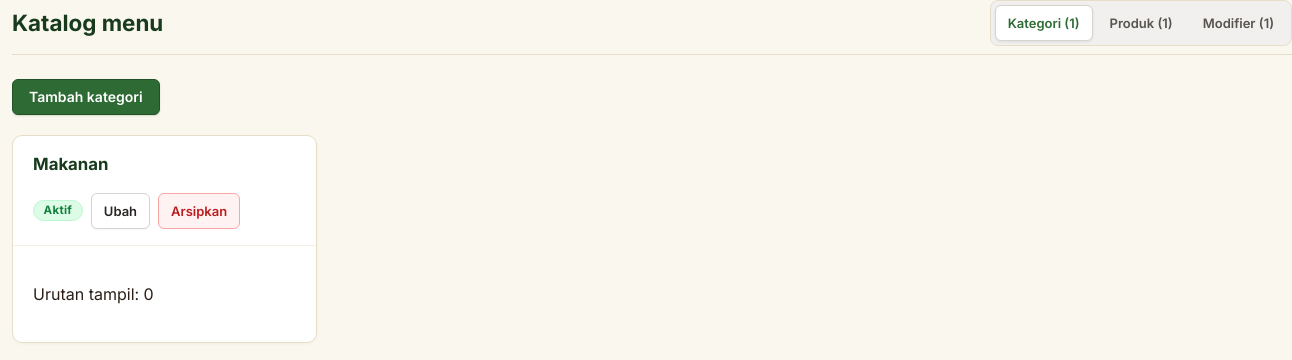
Test: CatalogPage › switches to the modifiers tab
The width and height of the screenshot is (1292, 360).
expect the heading "Makanan" is shown: met, box [33, 152, 108, 177]
Click the tab "Modifier (1)" at (1238, 23), box [1190, 5, 1287, 41]
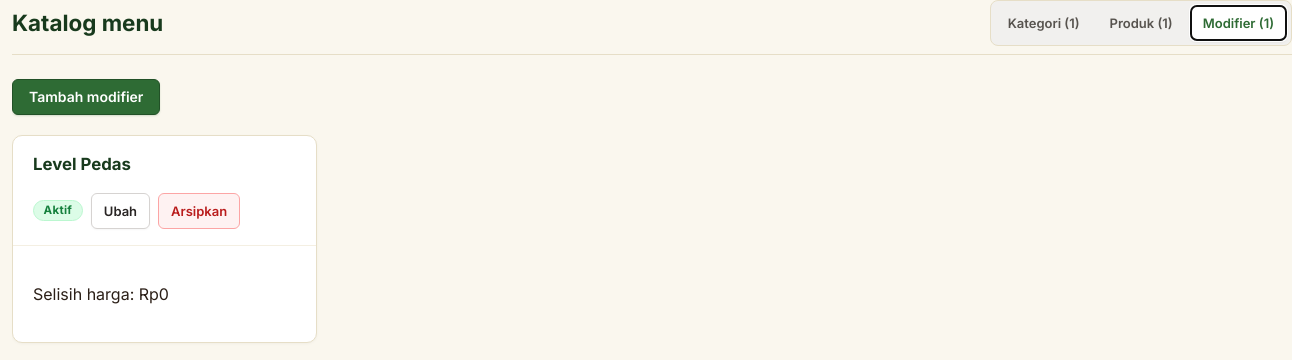
expect the heading "Level Pedas" is shown: met, box [33, 152, 131, 177]
